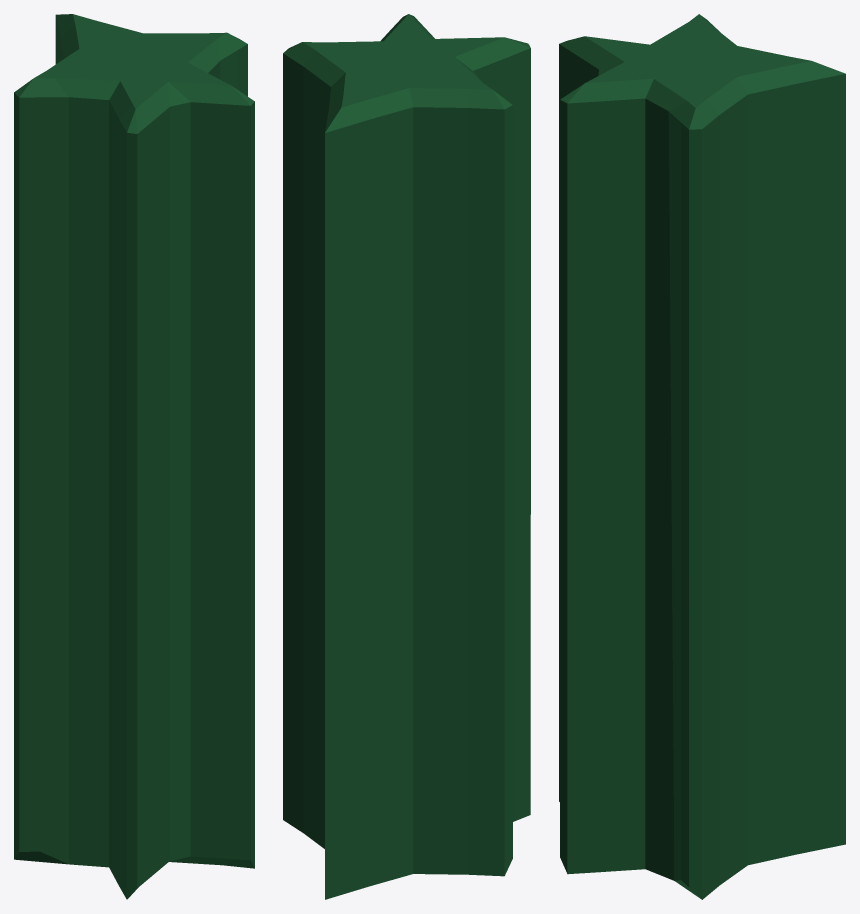
3 renders of one model, left to right at view 1: azimuth 30°, elevation 25°; view 2: azimuth 150°, elevation 25°; view 3: azimuth 270°, elevation 25°, orthographic.
Parts seen in each view (by area): view 1: 平面.002; view 2: 平面.002; view 3: 平面.002.
Boxes of the visible parts, box(x1,y1,x2,y2) form: 平面.002: box(14, 14, 254, 899); 平面.002: box(283, 14, 530, 899); 平面.002: box(559, 14, 845, 899).
Size of the model in its own units: 182 by 600 by 199.
